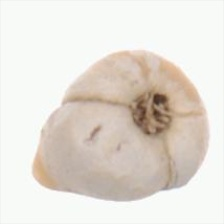L4: (31, 50, 211, 202)
